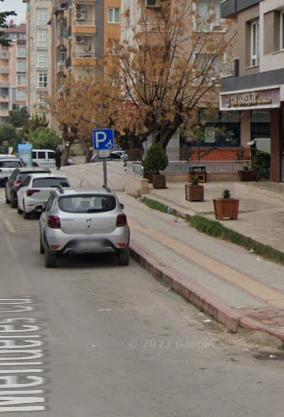disabledpark: (95, 128, 113, 149)
